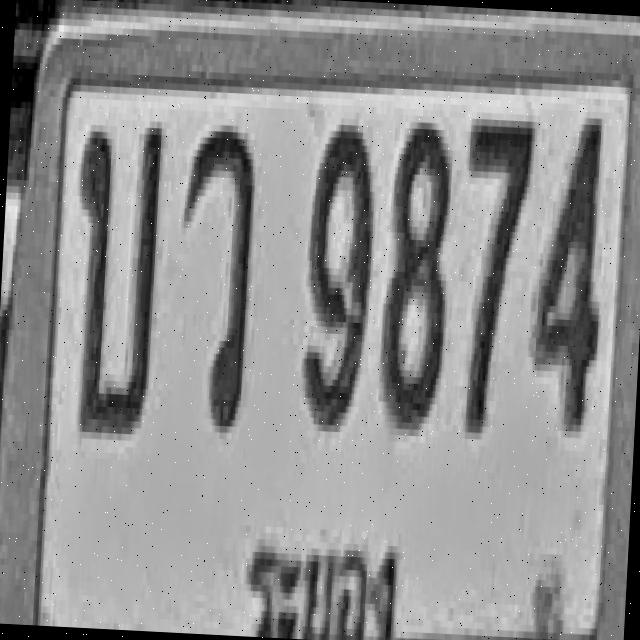35BorBaiMai: (66, 118, 166, 436)
4: (526, 110, 610, 432)
46WorWaen: (174, 120, 258, 430)
7: (452, 112, 536, 435)
8: (376, 115, 454, 431)
9: (300, 117, 377, 427)
Rayong: (241, 513, 400, 640)
